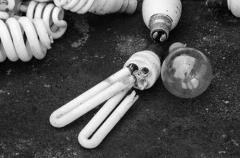lightbulb: (160, 41, 212, 98), (142, 0, 183, 42), (52, 0, 138, 16), (206, 0, 240, 18)
